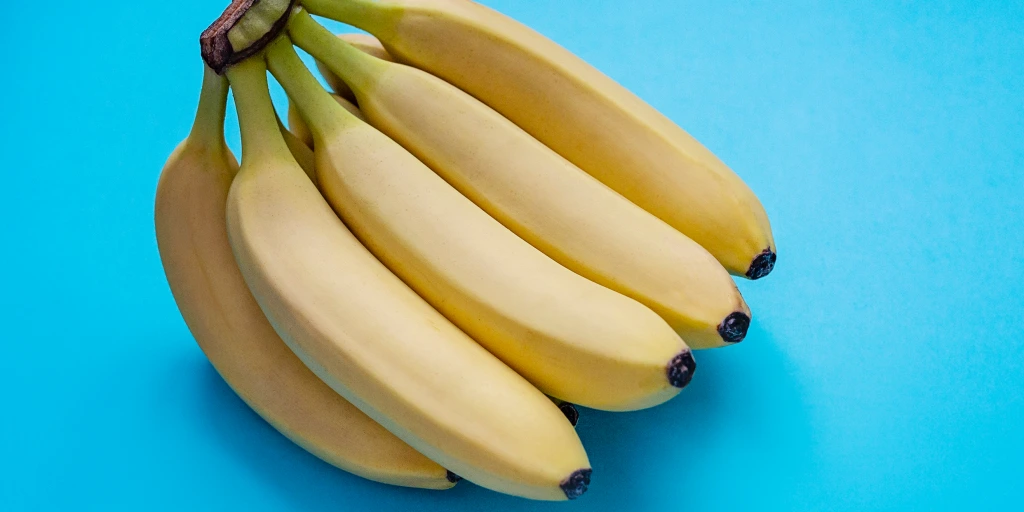banana: (127, 3, 819, 512)
